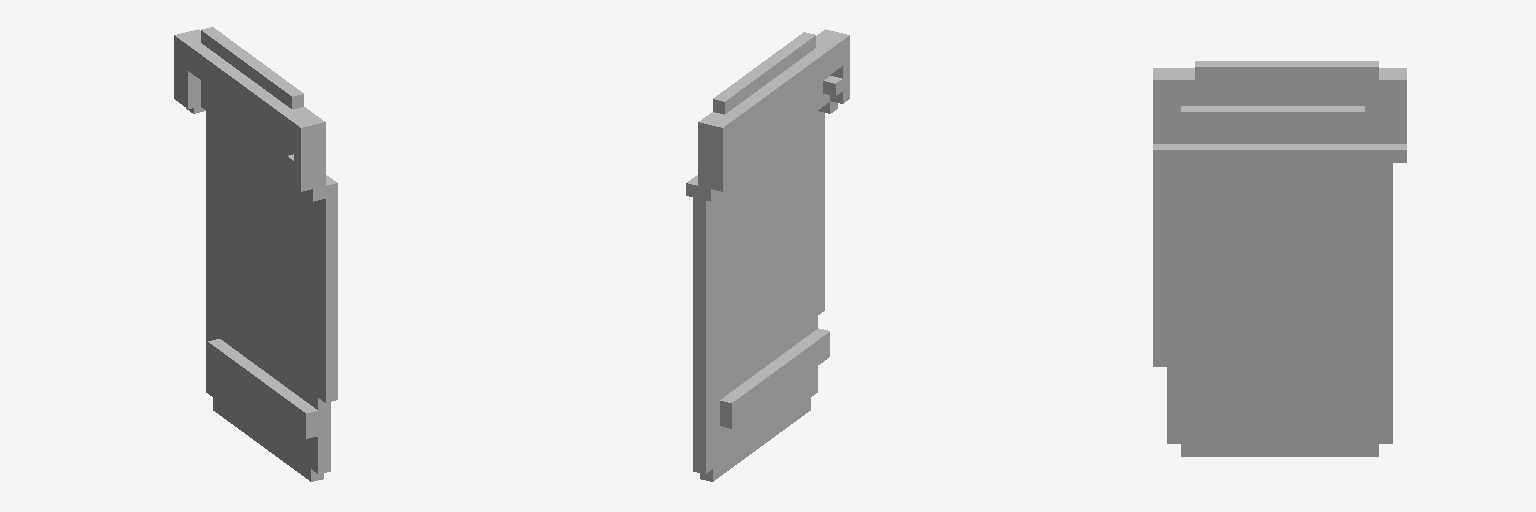
The model's file is pers-8.obj.
3 views of the same model, side by side, from view 1: azimuth 30°, elevation 25°; view 2: azimuth 150°, elevation 25°; view 3: azimuth 270°, elevation 25° (orthographic).
Visible parts, largest first — view 1: object 1; view 2: object 1; view 3: object 1.
Part boxes in pixels (x1,y1,x2,y2): object 1: (174,27,337,481); object 1: (686,29,849,481); object 1: (1153,61,1406,456).
Bounding box in the file's own units: 0.3 × 3 × 1.8.